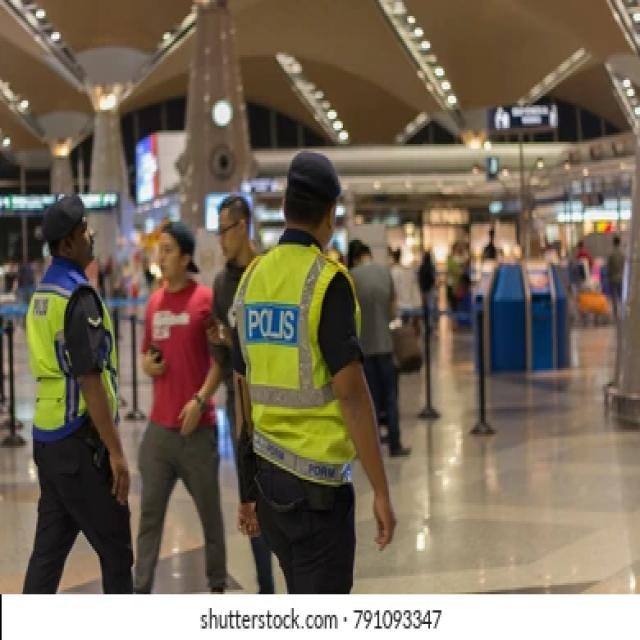Person: (233, 145, 403, 593), (19, 186, 139, 596), (135, 216, 227, 593), (210, 178, 252, 288)
